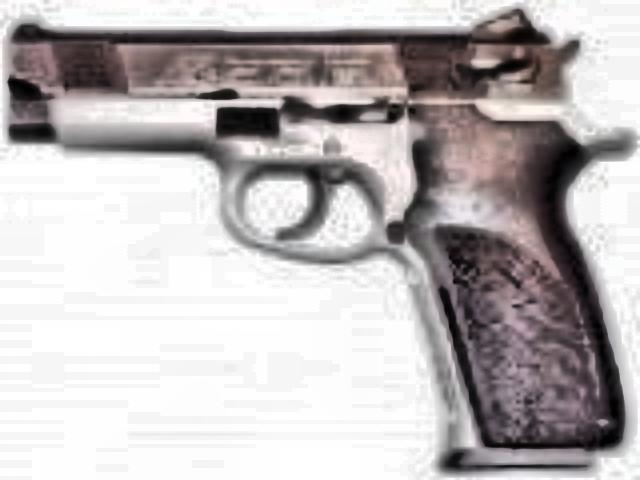pistol: (4, 8, 620, 476)
